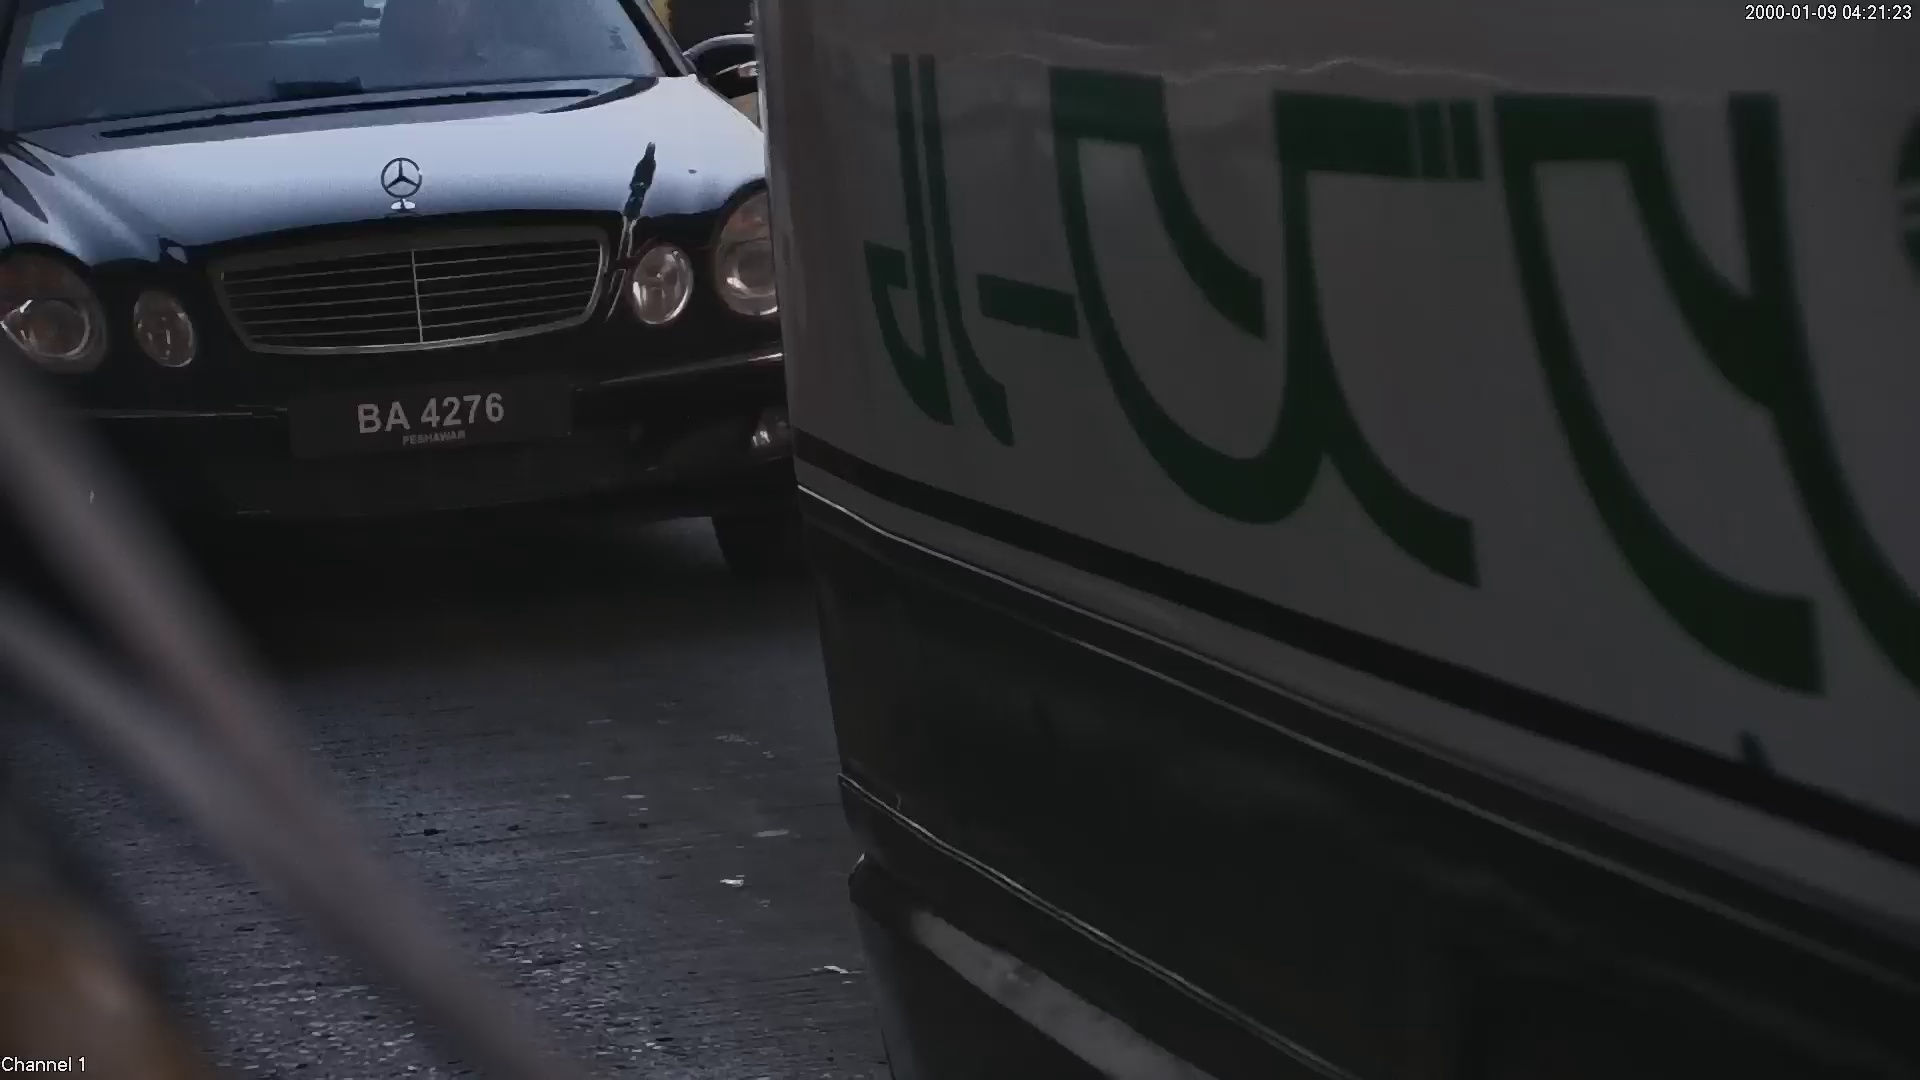Number_Plate: (323, 379, 578, 453)
Undefined: (628, 192, 797, 338), (17, 273, 195, 368)
